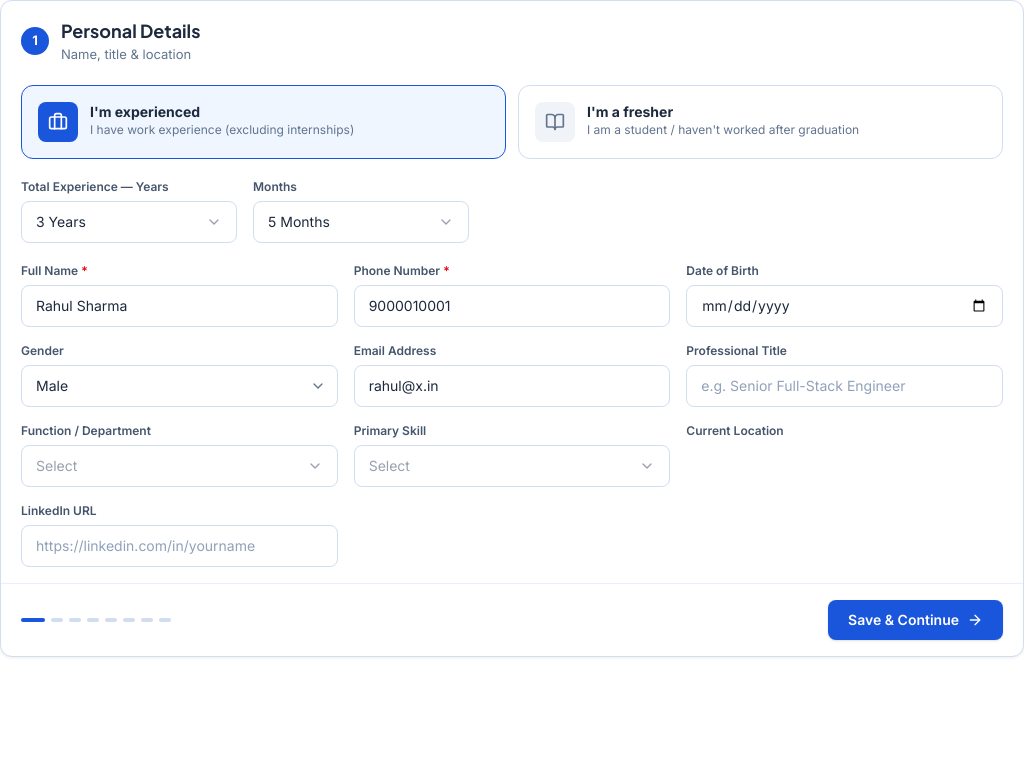
PersonalStep save errors › stops a list typed into Primary Skill and says where the rest belongs
Click the button named "Primary Skill": (389, 465) [354,444,670,486]
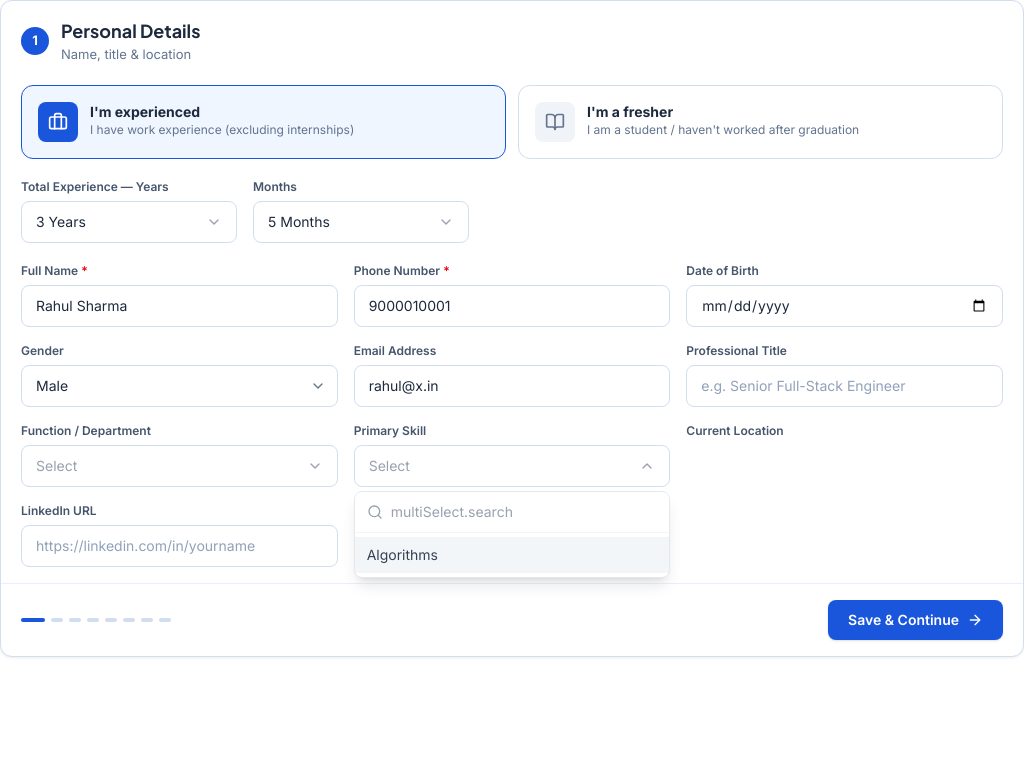
Type keys "React.js, Node.js, Next.js, TypeScript, MongoDB, PostgreSQL, Express.js, REST APIs, Tailwind CSS, Docker, Redis"
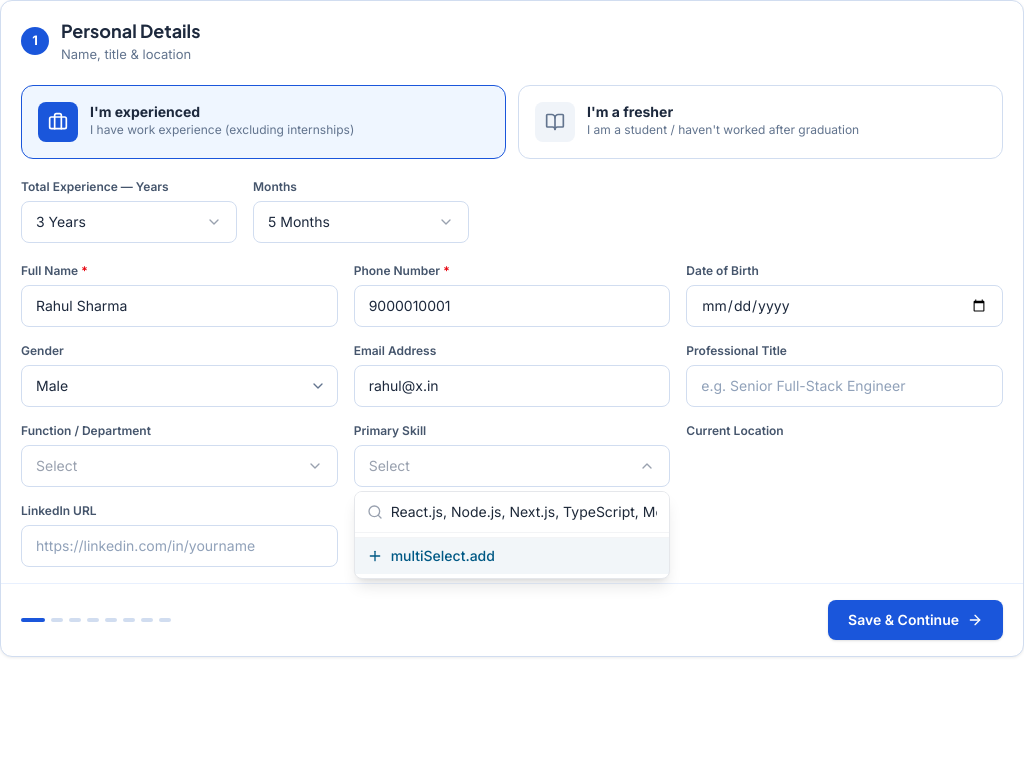
Click the option "multiSelect.add": (443, 555) [355,536,669,574]
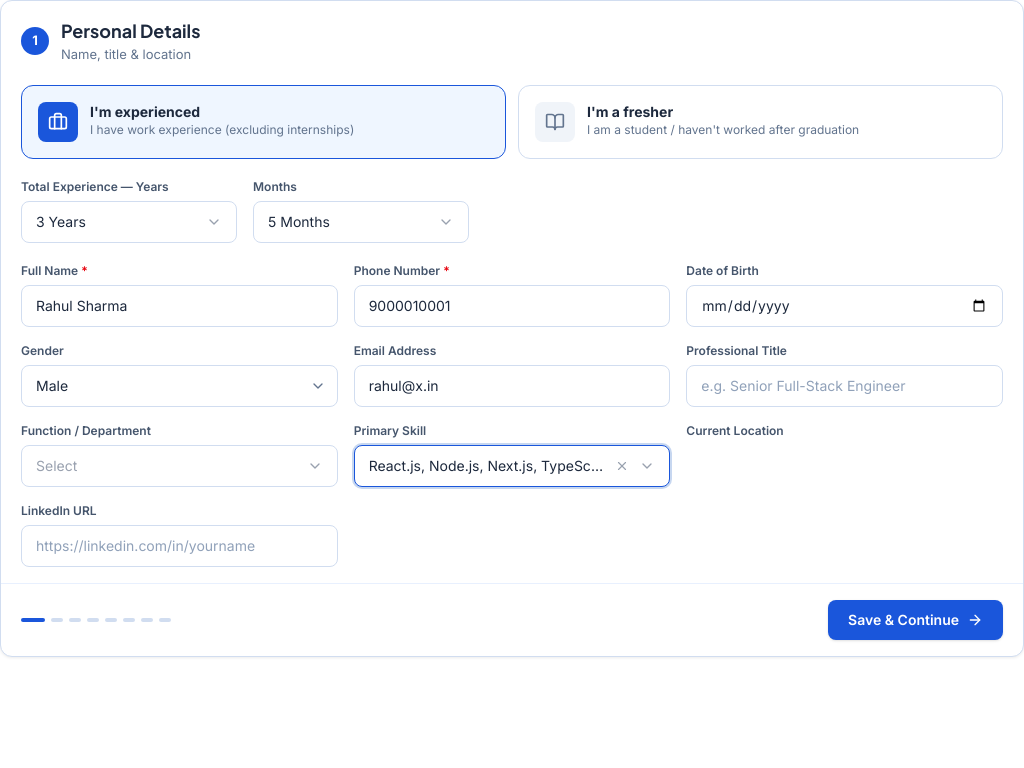
Click the button "Save & Continue": (916, 620) [828,600,1003,640]
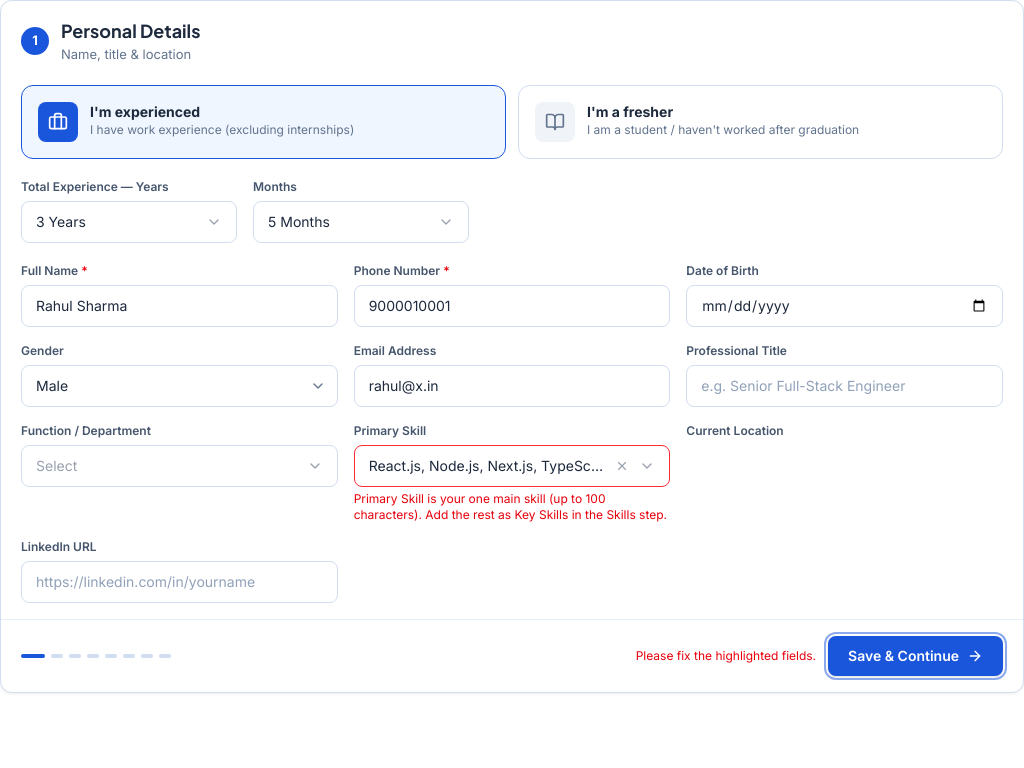
Now the text "Add the rest as Key Skills in the Skills step" is shown, box [354,490,667,522]
